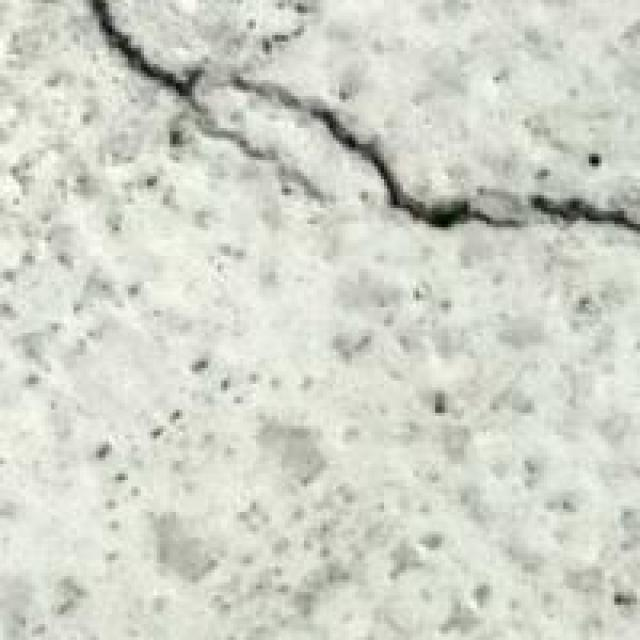Crack: (83, 0, 637, 304)
